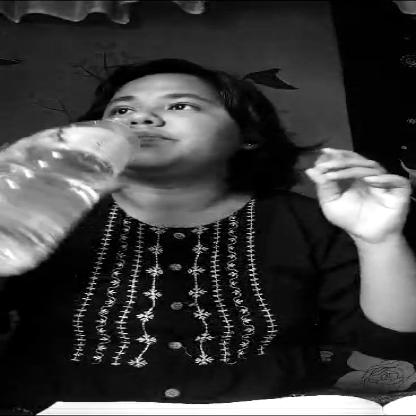Distracted: (94, 70, 266, 188)
